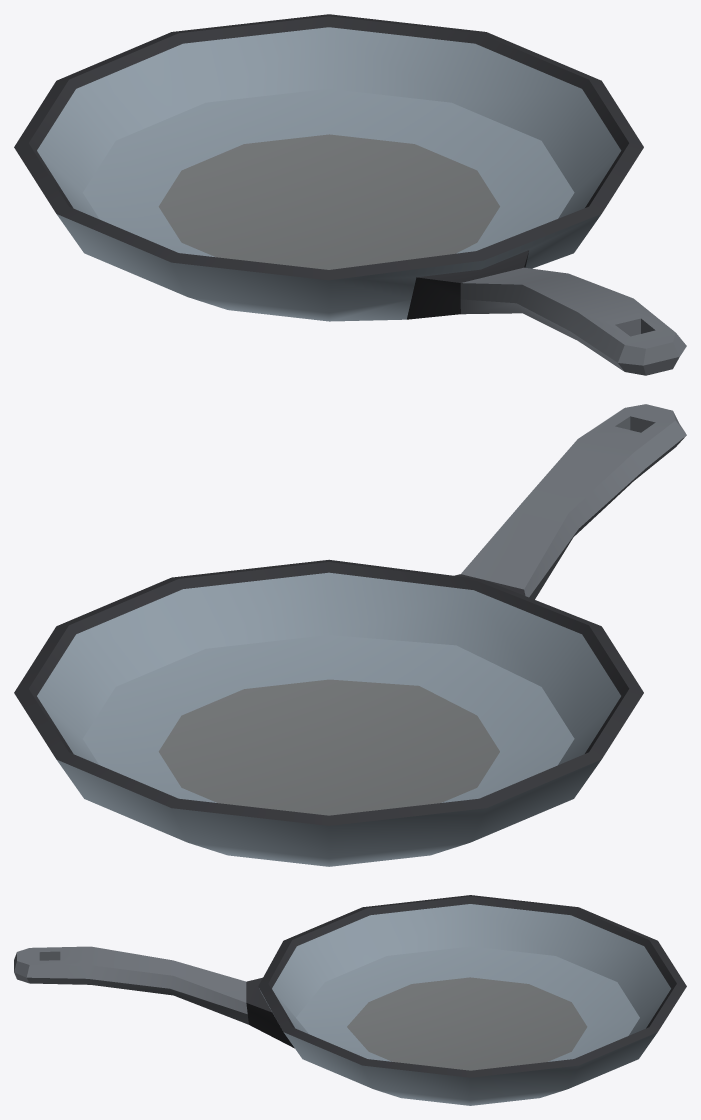
Rendered from pan.fbx.
3 views of the same model, one above another, from view 1: azimuth 30°, elevation 25°; view 2: azimuth 150°, elevation 25°; view 3: azimuth 270°, elevation 25° (orthographic). The views are drawn at different scales.
Visible parts, largest first — view 1: pan; view 2: pan; view 3: pan.
Part boxes in pixels (box(x1,y1,x2,y2)): pan: box(14, 14, 686, 375); pan: box(14, 404, 686, 866); pan: box(14, 895, 686, 1105).
Bounding box in the file's own units: 0.6262 × 0.1457 × 0.9744.
